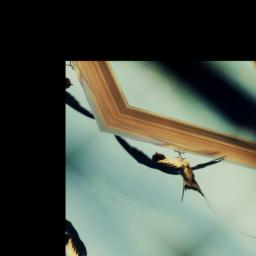Swallow: (103, 98, 255, 223)
